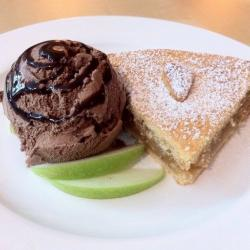apple_pie: (99, 42, 248, 189)
icecream: (3, 39, 125, 169)
